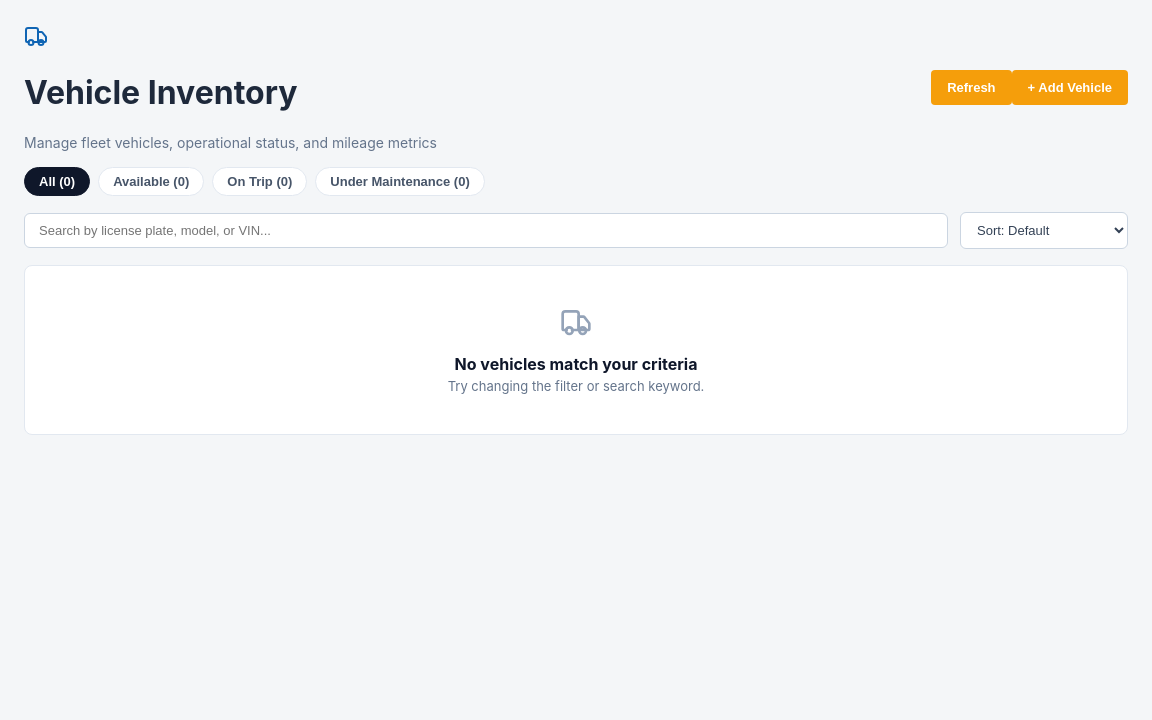
Test: T13 — Modal toggle: Add Vehicle opens form
Click the button "+ Add Vehicle" at (1070, 87), box x1=1012 y1=70 x2=1128 y2=105
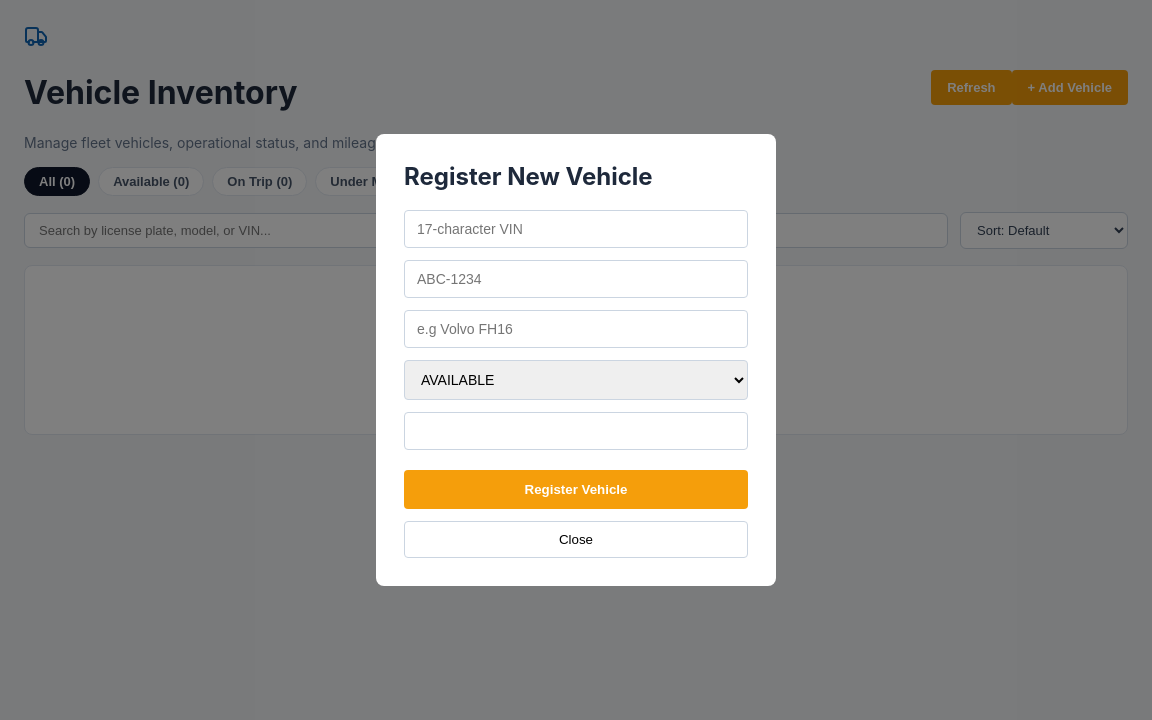
Result: the heading "Register New Vehicle" is shown at x1=404 y1=162 x2=653 y2=190
